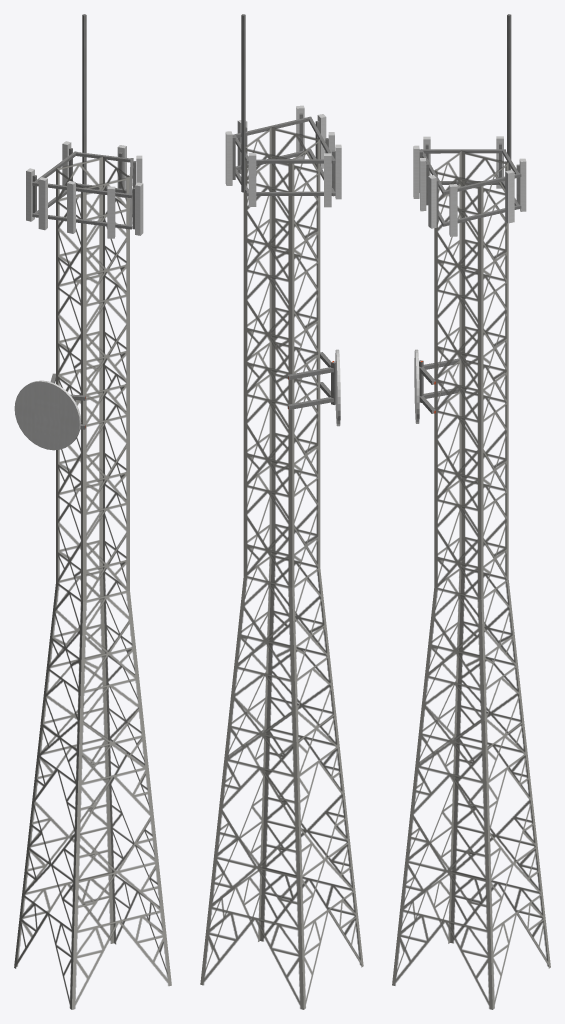
File: tower-radio-60m-cbj_LOD00.gltf
3 renders of one model, left to right at view 1: azimuth 30°, elevation 25°; view 2: azimuth 150°, elevation 25°; view 3: azimuth 330°, elevation 25°, orthographic. The views are drawn at different scales.
Parts seen in each view (by area): view 1: post; view 2: post; view 3: post.
Boxes of the visible parts, bbox=[...] form: post: bbox=[14, 14, 171, 1009]; post: bbox=[200, 14, 363, 1009]; post: bbox=[392, 14, 550, 1009].
Bounding box in the file's own units: 9.18 × 70.21 × 8.63.
